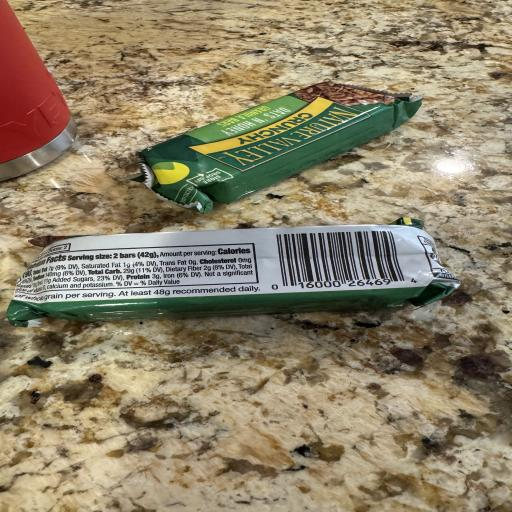granola: (8, 218, 458, 326), (135, 82, 422, 212)
